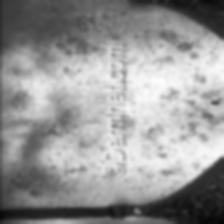Unclassified: (124, 18, 224, 182), (14, 17, 102, 190)
